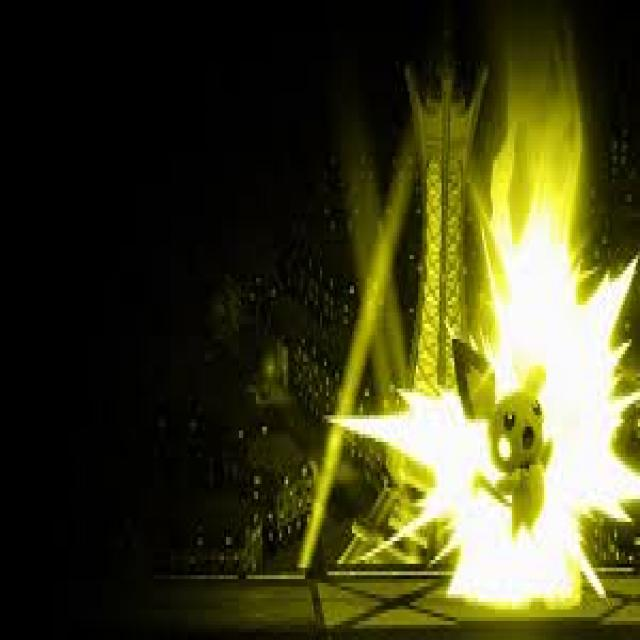pichu: (450, 320, 568, 558)
